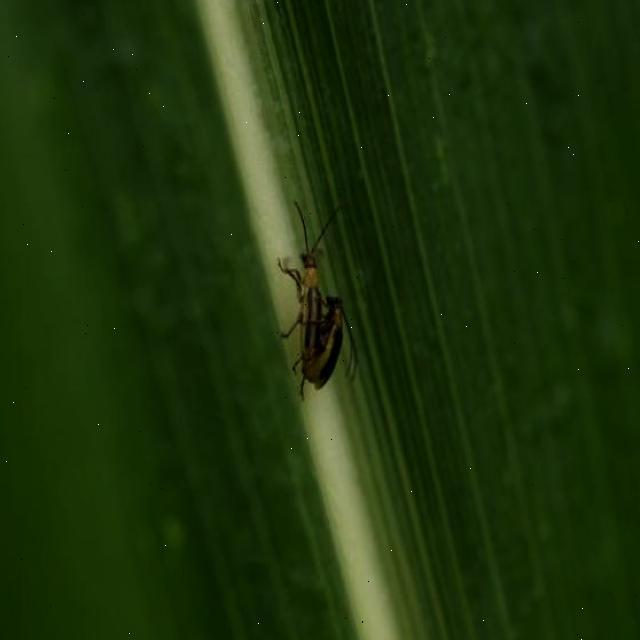trips: (279, 193, 319, 397), (312, 296, 346, 388)
